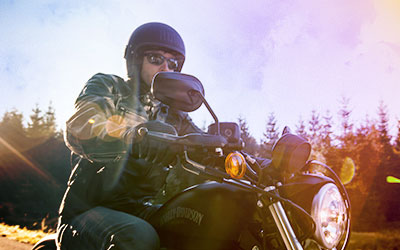with_helmet: (124, 21, 189, 81)
